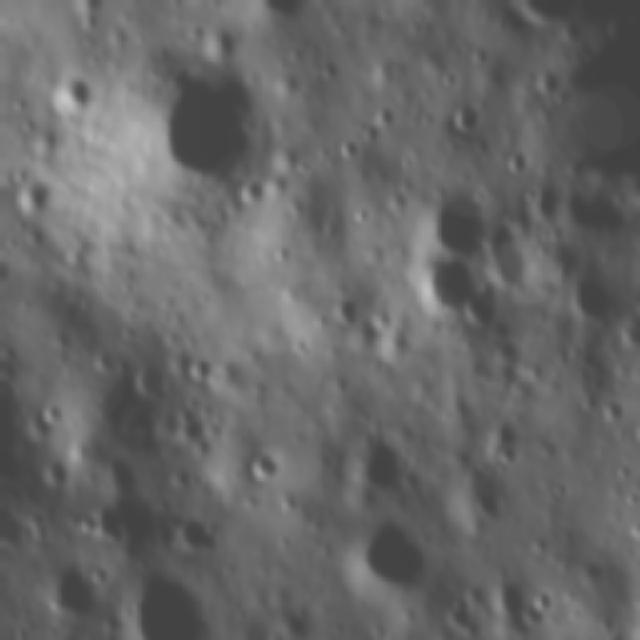crater: (142, 74, 266, 197), (119, 571, 218, 637), (346, 513, 428, 592), (415, 179, 487, 258), (342, 427, 410, 504), (412, 250, 478, 318), (42, 558, 102, 620), (43, 68, 102, 119), (566, 272, 620, 322), (170, 506, 222, 557), (14, 175, 57, 223), (126, 359, 172, 401), (523, 184, 569, 224), (466, 480, 506, 520), (242, 448, 284, 484), (325, 290, 363, 328), (448, 94, 482, 134), (524, 61, 559, 98), (184, 354, 216, 391), (38, 458, 70, 494), (523, 584, 557, 616), (499, 140, 527, 178), (86, 344, 117, 378), (33, 396, 67, 427), (353, 114, 382, 146), (332, 131, 363, 160), (370, 98, 396, 131), (432, 64, 462, 91)
